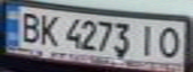2: (78, 17, 100, 52)
3: (112, 19, 136, 57)
4: (60, 16, 84, 51)
7: (93, 18, 115, 53)
B: (15, 9, 42, 44)
I: (136, 21, 160, 57)
K: (36, 12, 63, 47)
O: (154, 24, 187, 58)
